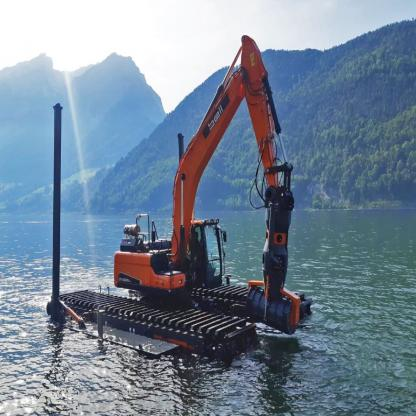excavator: (44, 38, 316, 361)
